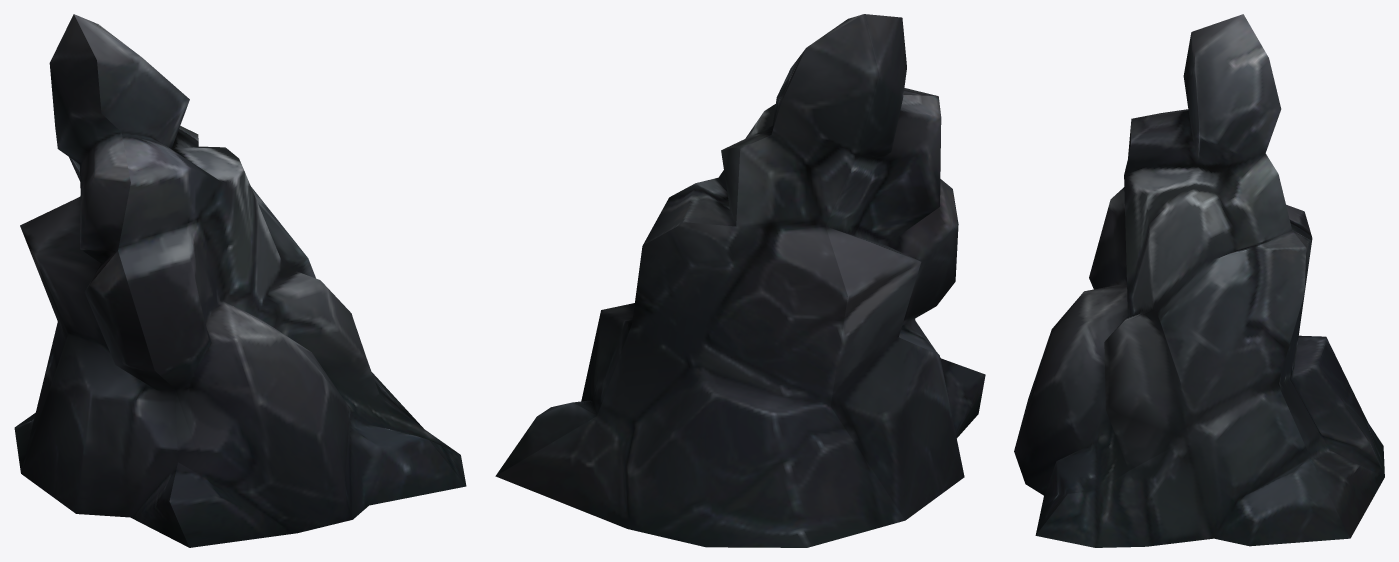
Rendered from Mine_shitou01.FBX.
3 views of the same model, side by side, from view 1: azimuth 30°, elevation 25°; view 2: azimuth 150°, elevation 25°; view 3: azimuth 270°, elevation 25° (orthographic). The views are drawn at different scales.
Parts seen in each view (by area): view 1: shitou01; view 2: shitou01; view 3: shitou01.
Boxes of the visible parts, <box> form: shitou01: <box>14,14,466,547</box>; shitou01: <box>495,14,985,547</box>; shitou01: <box>1014,14,1384,547</box>.
Size of the model in its own units: 123 by 153 by 128.
